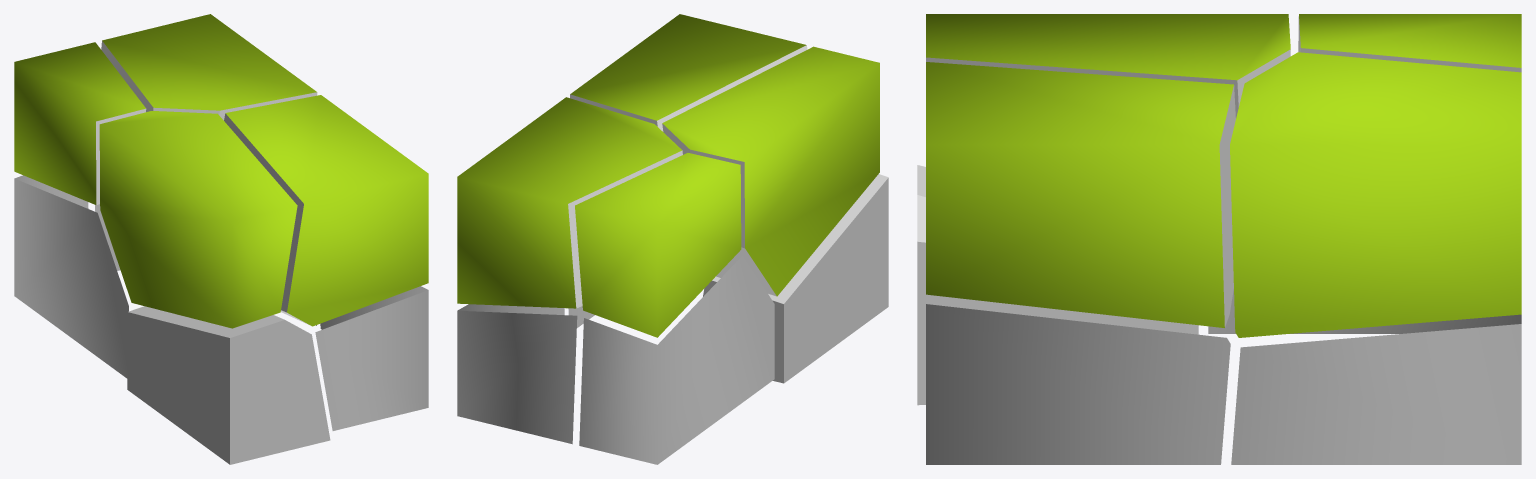
Rendered from Structure_Tower_Knight_Human_03_debris_cells_main_structure_03.fbx.
3 views of the same model, side by side, from view 1: azimuth 30°, elevation 25°; view 2: azimuth 150°, elevation 25°; view 3: azimuth 270°, elevation 25° (orthographic). The views are drawn at different scales.
Parts seen in each view (by area): view 1: Structure_Tower_Knight_Human_03.005_cell.001, Structure_Tower_Knight_Human_03.005_cell.005, Structure_Tower_Knight_Human_03.005_cell, Structure_Tower_Knight_Human_03.005_cell.002, Structure_Tower_Knight_Human_03.005_cell.003, Structure_Tower_Knight_Human_03.005_cell.007, Structure_Tower_Knight_Human_03.005_cell.004; view 2: Structure_Tower_Knight_Human_03.005_cell.001, Structure_Tower_Knight_Human_03.005_cell.007, Structure_Tower_Knight_Human_03.005_cell.002, Structure_Tower_Knight_Human_03.005_cell.003, Structure_Tower_Knight_Human_03.005_cell.006, Structure_Tower_Knight_Human_03.005_cell, Structure_Tower_Knight_Human_03.005_cell.005; view 3: Structure_Tower_Knight_Human_03.005_cell.007, Structure_Tower_Knight_Human_03.005_cell.005, Structure_Tower_Knight_Human_03.005_cell.004, Structure_Tower_Knight_Human_03.005_cell.006, Structure_Tower_Knight_Human_03.005_cell.001, Structure_Tower_Knight_Human_03.005_cell.003, Structure_Tower_Knight_Human_03.005_cell, Structure_Tower_Knight_Human_03.005_cell.002.
Boxes of the visible parts, box(x1,y1,x2,y2) form: Structure_Tower_Knight_Human_03.005_cell.001: box(99, 111, 297, 328); Structure_Tower_Knight_Human_03.005_cell.005: box(224, 95, 428, 326); Structure_Tower_Knight_Human_03.005_cell: box(127, 306, 330, 464); Structure_Tower_Knight_Human_03.005_cell.002: box(14, 175, 128, 378); Structure_Tower_Knight_Human_03.005_cell.003: box(14, 42, 146, 205); Structure_Tower_Knight_Human_03.005_cell.007: box(101, 14, 317, 120); Structure_Tower_Knight_Human_03.005_cell.004: box(315, 286, 428, 430); Structure_Tower_Knight_Human_03.005_cell.001: box(662, 46, 879, 296); Structure_Tower_Knight_Human_03.005_cell.007: box(457, 97, 682, 308); Structure_Tower_Knight_Human_03.005_cell.002: box(579, 255, 774, 464); Structure_Tower_Knight_Human_03.005_cell.003: box(575, 153, 741, 337); Structure_Tower_Knight_Human_03.005_cell.006: box(457, 304, 577, 444); Structure_Tower_Knight_Human_03.005_cell: box(703, 174, 888, 383); Structure_Tower_Knight_Human_03.005_cell.005: box(570, 14, 807, 131); Structure_Tower_Knight_Human_03.005_cell.007: box(1230, 52, 1521, 337); Structure_Tower_Knight_Human_03.005_cell.005: box(926, 62, 1235, 327); Structure_Tower_Knight_Human_03.005_cell.004: box(926, 304, 1230, 464); Structure_Tower_Knight_Human_03.005_cell.006: box(1231, 324, 1521, 464); Structure_Tower_Knight_Human_03.005_cell.001: box(926, 14, 1290, 118); Structure_Tower_Knight_Human_03.005_cell.003: box(1298, 14, 1521, 72); Structure_Tower_Knight_Human_03.005_cell: box(917, 165, 1198, 405); Structure_Tower_Knight_Human_03.005_cell.002: box(1208, 289, 1521, 333).
Size of the model in its own units: 187 by 213 by 356.
